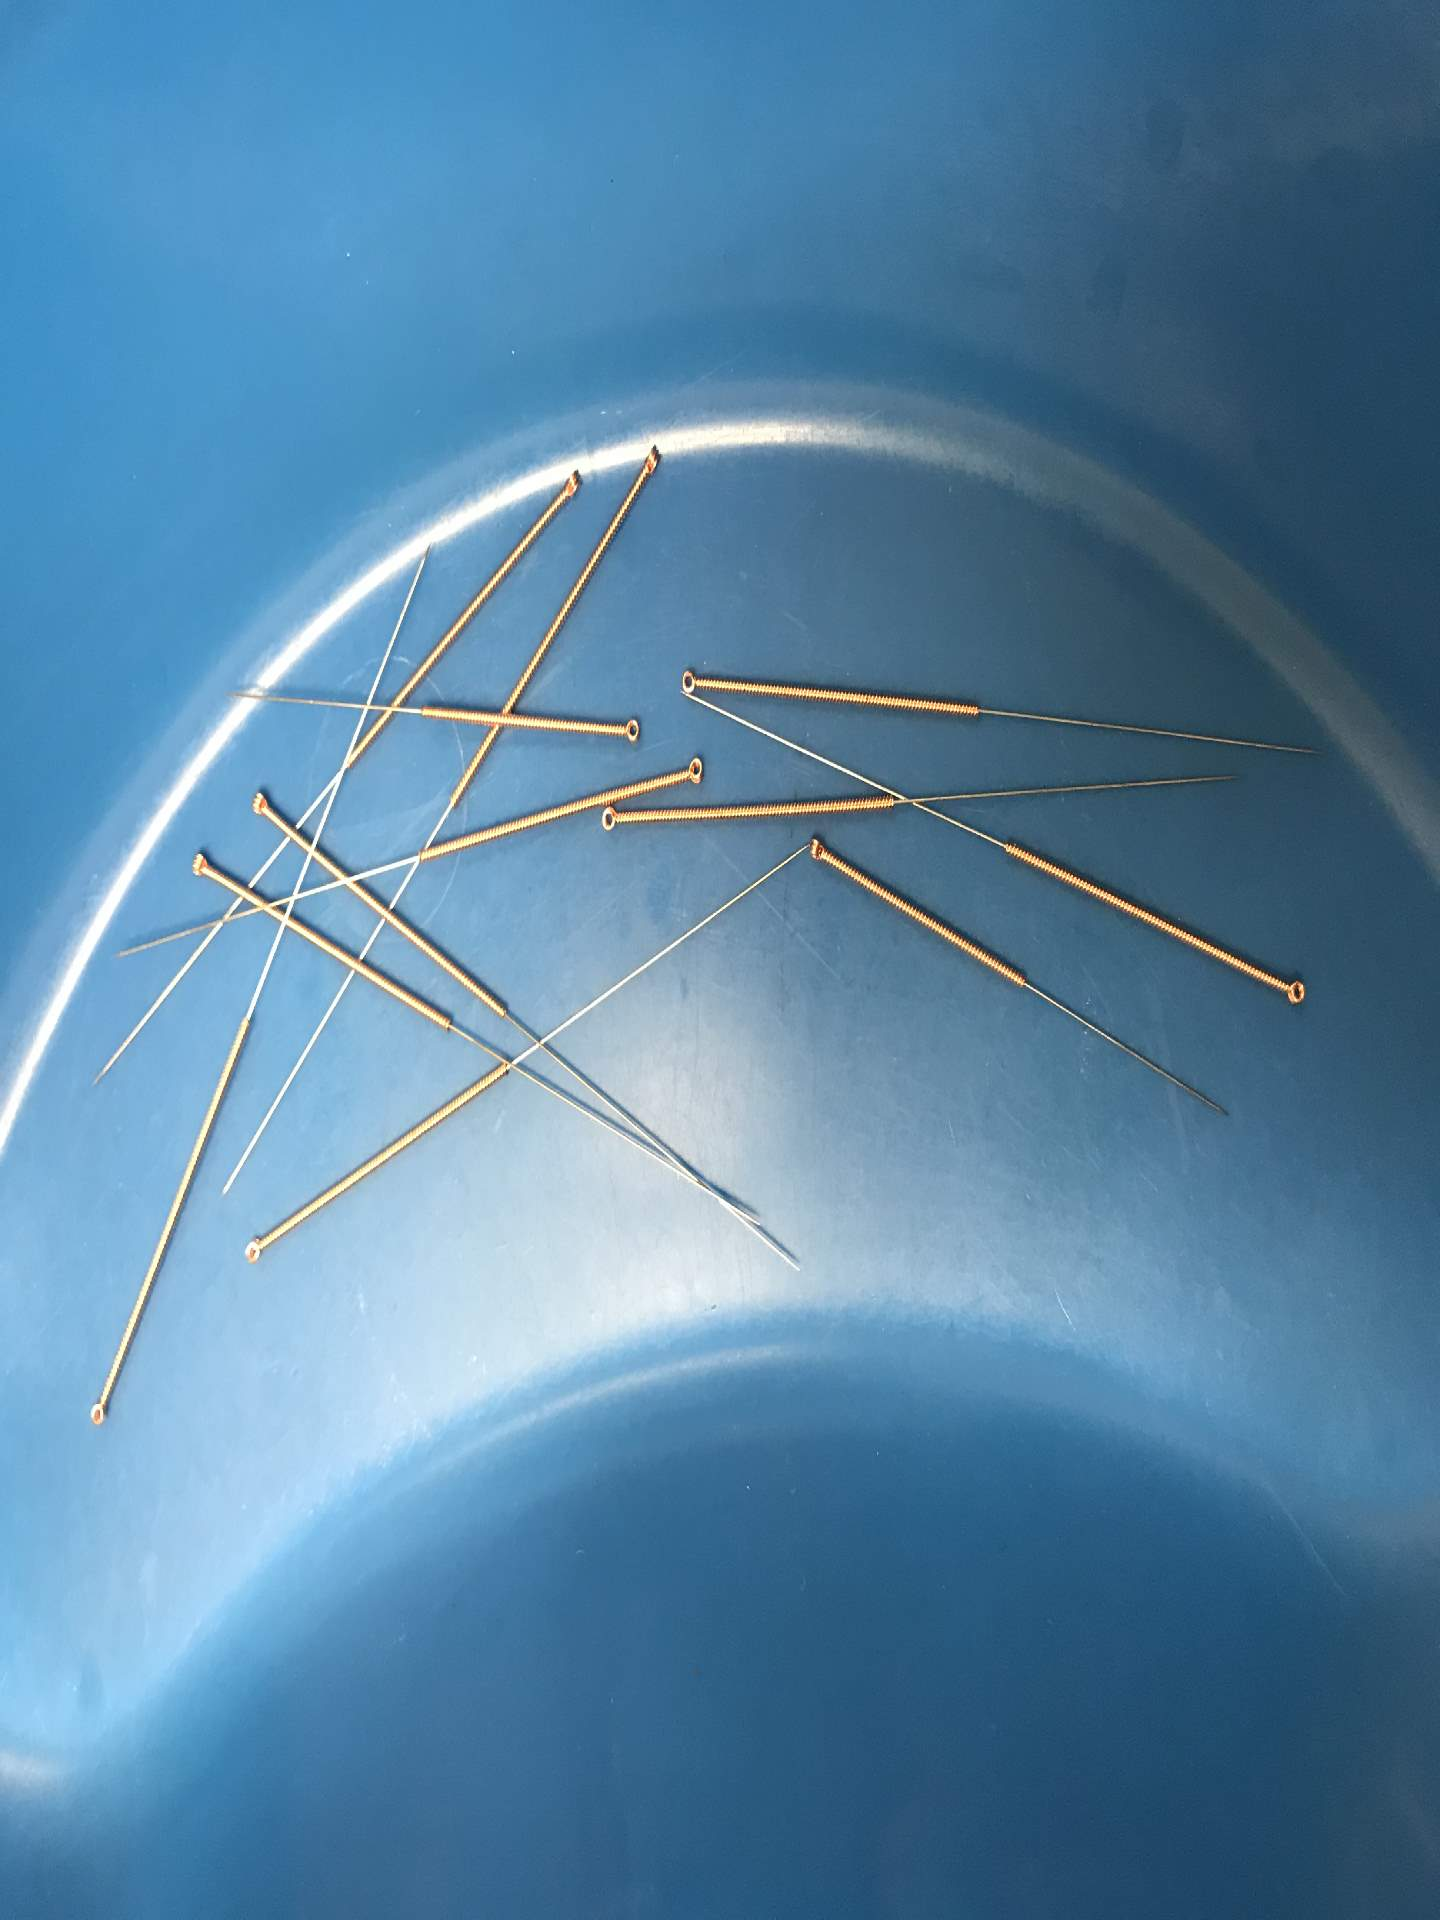needle: (632, 434, 675, 487), (1271, 966, 1314, 1014), (667, 750, 715, 791), (79, 1389, 119, 1438), (551, 466, 591, 506), (182, 844, 221, 886), (799, 828, 836, 872), (608, 711, 649, 750), (234, 1228, 271, 1271), (242, 782, 278, 825), (670, 658, 706, 698), (594, 803, 626, 838)
